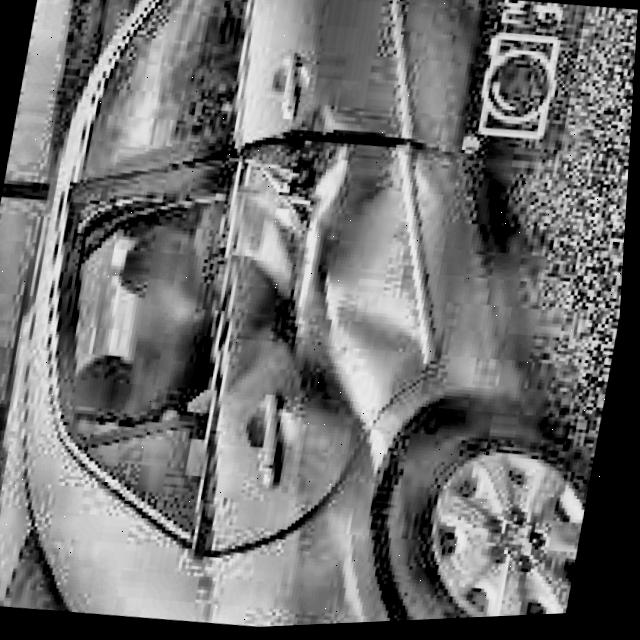door_dent: (205, 142, 468, 426)
